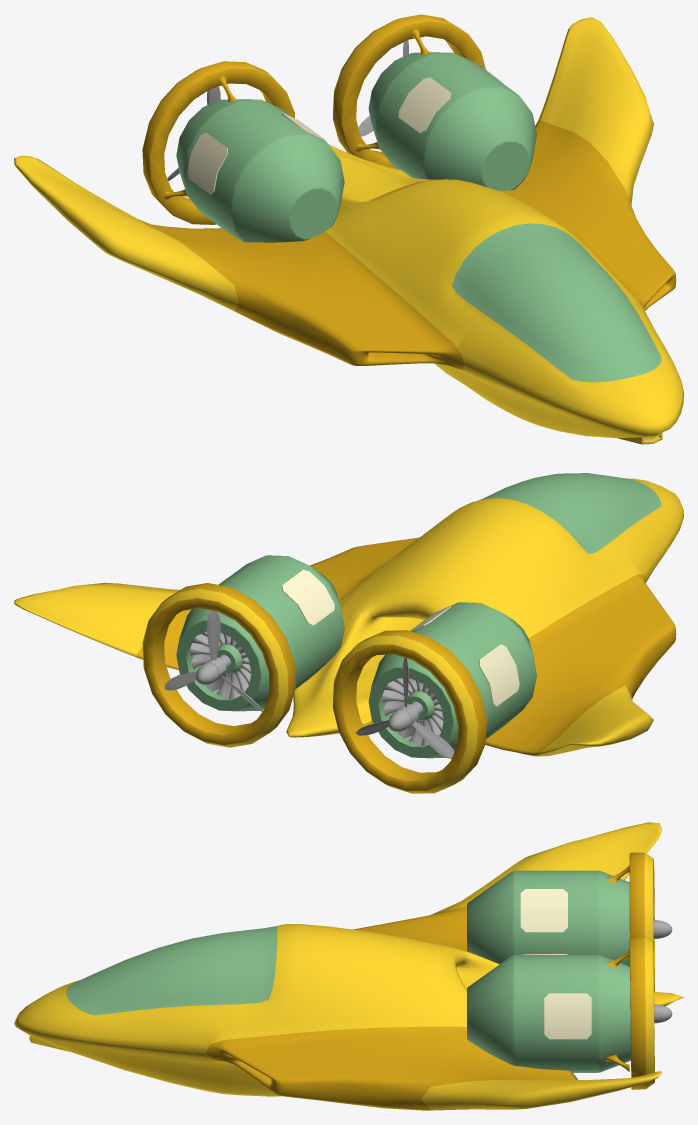
File: bion_ship_01.fbx
The picture shows the model from 3 angles, top to bottom: view 1: azimuth 30°, elevation 25°; view 2: azimuth 150°, elevation 25°; view 3: azimuth 270°, elevation 25°; orthographic projection. The views are drawn at different scales.
Parts seen in each view (by area): view 1: body, engine_turbine, propeller_frame, engine_panels, mount; view 2: body, engine_turbine, propeller_frame, propeller, engine_panels, engine_detail; view 3: body, engine_turbine, propeller_frame, engine_panels, propeller, mount.
Boxes of the visible parts, x1=… form: body: x1=14, y1=17, x2=683, y2=438; engine_turbine: x1=176, y1=52, x2=536, y2=242; propeller_frame: x1=142, y1=14, x2=485, y2=224; engine_panels: x1=187, y1=65, x2=504, y2=194; mount: x1=164, y1=29, x2=431, y2=199; body: x1=14, y1=473, x2=683, y2=756; engine_turbine: x1=176, y1=555, x2=536, y2=758; propeller_frame: x1=142, y1=583, x2=486, y2=793; propeller: x1=164, y1=610, x2=454, y2=759; engine_panels: x1=217, y1=570, x2=519, y2=706; engine_detail: x1=189, y1=631, x2=443, y2=745; body: x1=14, y1=822, x2=683, y2=1110; engine_turbine: x1=467, y1=870, x2=630, y2=1072; propeller_frame: x1=629, y1=852, x2=654, y2=1089; engine_panels: x1=520, y1=889, x2=591, y2=1039; propeller: x1=653, y1=920, x2=672, y2=1023; mount: x1=605, y1=865, x2=629, y2=1071.
Size of the model in its own units: 352 by 122 by 388.
